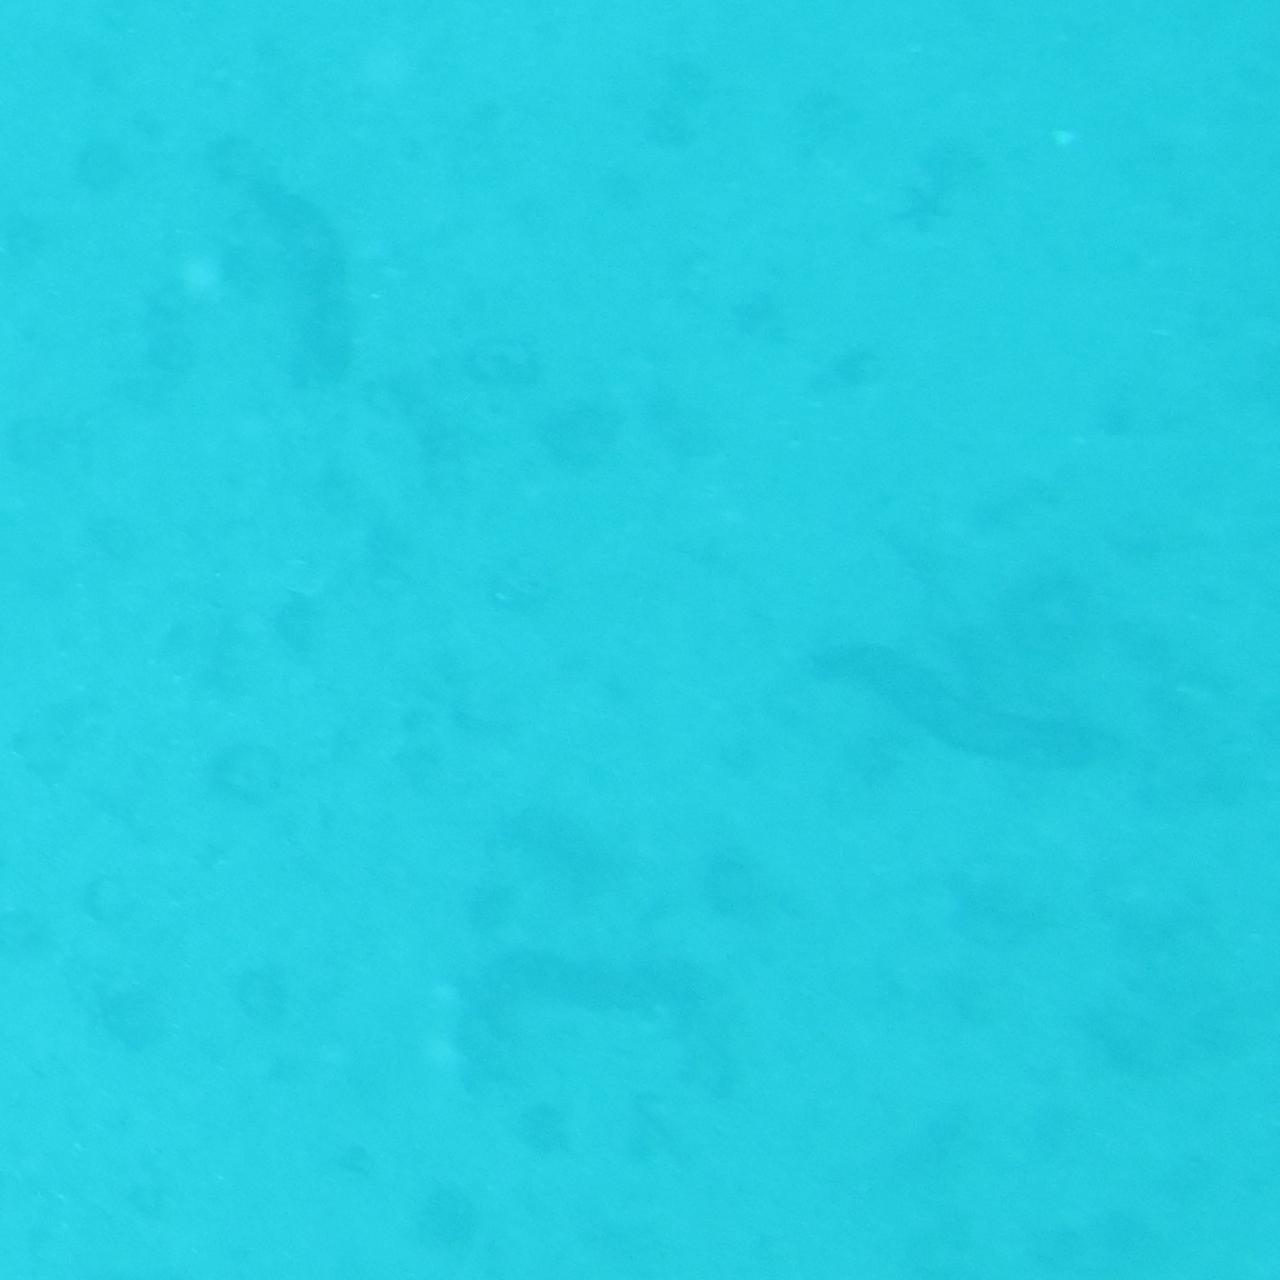Holothuria tubulosa: (440, 922, 713, 1133), (817, 627, 1166, 781), (218, 96, 359, 408)
